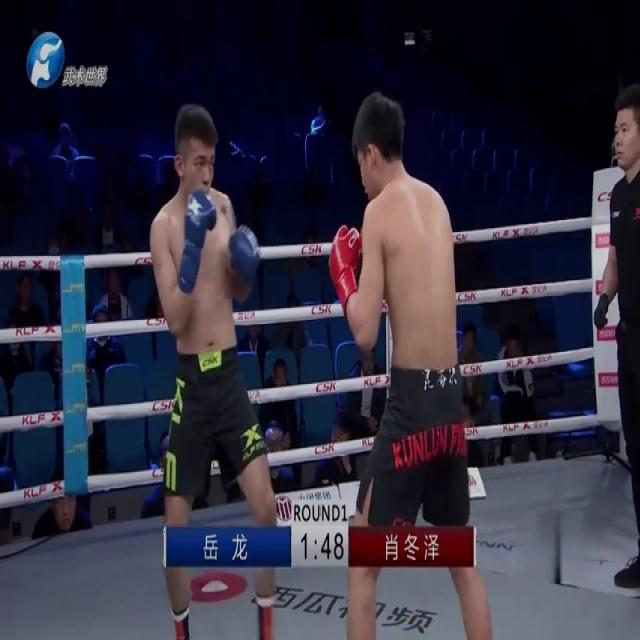fight: (134, 81, 476, 639)
non-fight: (586, 79, 639, 590)
